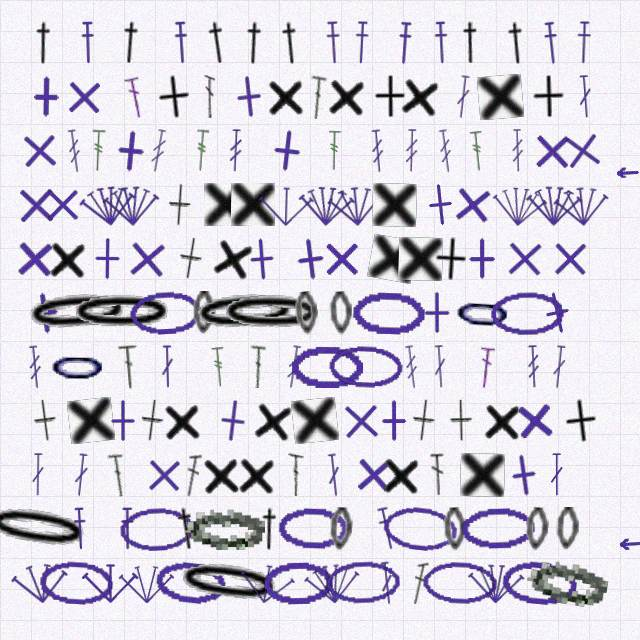chain: (173, 555, 285, 611), (22, 287, 133, 338), (0, 499, 94, 558), (190, 288, 300, 337), (218, 291, 326, 335), (525, 555, 610, 610), (68, 291, 176, 334), (381, 503, 460, 554), (500, 558, 578, 607), (153, 558, 229, 608), (38, 559, 115, 606), (128, 289, 204, 336), (328, 344, 404, 390), (119, 506, 194, 552), (422, 560, 497, 606), (185, 507, 265, 550), (460, 506, 535, 551), (325, 560, 400, 605), (351, 290, 425, 335), (490, 291, 565, 335), (277, 506, 350, 551), (262, 560, 335, 605), (290, 345, 363, 388), (452, 290, 514, 336), (48, 345, 108, 388), (294, 291, 319, 335), (329, 291, 353, 335), (329, 507, 353, 551), (443, 507, 467, 551), (525, 507, 549, 551), (556, 507, 579, 550), (193, 291, 215, 334)
double: (124, 75, 146, 119), (118, 345, 140, 389), (306, 75, 327, 119), (107, 453, 127, 497), (183, 453, 202, 497), (410, 561, 429, 605), (454, 75, 472, 119), (477, 345, 495, 389), (550, 345, 568, 389), (72, 453, 90, 497), (325, 453, 343, 497), (378, 561, 396, 605), (576, 75, 594, 118), (248, 345, 266, 388), (287, 453, 304, 496), (432, 345, 448, 388), (430, 453, 446, 496), (160, 345, 175, 388), (549, 453, 564, 496), (31, 453, 45, 496), (204, 75, 215, 118)
fan: (236, 557, 298, 608), (77, 180, 139, 230), (10, 558, 71, 607), (302, 558, 363, 607), (489, 181, 550, 229), (551, 181, 612, 229), (326, 181, 386, 229), (102, 182, 161, 228), (297, 182, 356, 228), (467, 560, 525, 605), (257, 183, 315, 227), (525, 183, 583, 227), (82, 561, 139, 604), (118, 561, 175, 604)
half_double: (116, 20, 145, 65), (203, 20, 232, 65), (172, 506, 201, 551), (240, 21, 268, 65), (30, 21, 57, 65), (277, 21, 304, 65), (503, 21, 530, 65), (256, 507, 283, 551), (374, 506, 399, 551), (458, 21, 483, 64), (541, 21, 561, 65), (395, 21, 414, 65), (324, 21, 343, 64), (352, 21, 371, 64), (172, 21, 190, 64), (432, 21, 450, 64), (575, 21, 593, 64), (71, 507, 89, 550), (79, 21, 96, 64), (119, 507, 136, 550)
noise: (617, 538, 640, 550), (614, 167, 639, 178)
single: (532, 287, 583, 338), (367, 234, 418, 284), (209, 233, 258, 284), (558, 126, 607, 175), (286, 235, 334, 283), (21, 289, 69, 337), (500, 451, 548, 499), (67, 397, 115, 444), (291, 397, 339, 444), (225, 73, 272, 120), (263, 127, 310, 174), (417, 181, 464, 228), (449, 181, 496, 228), (209, 397, 256, 444), (511, 397, 558, 444), (477, 74, 524, 120), (251, 397, 296, 445), (108, 128, 154, 174), (124, 236, 170, 282), (239, 236, 285, 282), (398, 73, 443, 120), (17, 128, 62, 173), (12, 236, 57, 281), (502, 236, 547, 281), (351, 452, 396, 497), (372, 183, 417, 227), (398, 237, 443, 281), (460, 453, 505, 497), (62, 75, 106, 119), (530, 129, 574, 173), (14, 183, 58, 227), (339, 399, 383, 443), (142, 453, 186, 497), (204, 183, 248, 226), (231, 183, 275, 226), (326, 74, 368, 119), (24, 75, 67, 118), (41, 183, 84, 226), (86, 237, 129, 280), (320, 237, 363, 280), (460, 237, 503, 280), (415, 291, 458, 334), (101, 399, 144, 442), (372, 399, 415, 442), (47, 237, 89, 281), (236, 453, 278, 497), (549, 237, 591, 280), (162, 399, 203, 443), (482, 399, 523, 443), (201, 453, 242, 497), (381, 453, 422, 497), (266, 75, 306, 118), (155, 74, 192, 120), (562, 398, 599, 444), (433, 237, 468, 281), (531, 75, 565, 118), (373, 75, 406, 118), (177, 236, 205, 281), (32, 398, 59, 443), (139, 398, 166, 443), (411, 398, 437, 443), (168, 183, 192, 227), (450, 399, 473, 442)
treble: (148, 129, 169, 173), (284, 345, 304, 389), (65, 129, 84, 173), (436, 129, 455, 173), (468, 129, 487, 173), (402, 345, 421, 389), (26, 345, 44, 389), (210, 345, 228, 389), (369, 129, 386, 173), (90, 129, 107, 172), (193, 129, 210, 172), (228, 129, 243, 172), (327, 129, 342, 172), (404, 129, 419, 172), (510, 129, 525, 172), (526, 345, 541, 388)
